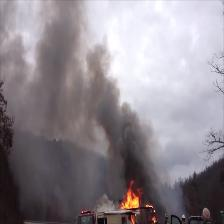fire: (125, 186, 140, 207)
smoke: (44, 2, 124, 210), (126, 104, 150, 184)
